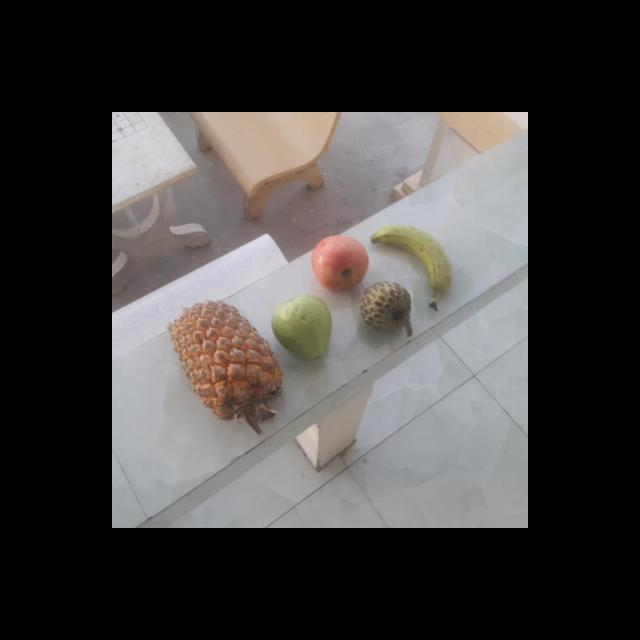Sakya fruit: (358, 280, 412, 336)
apple: (308, 234, 371, 293)
banana: (364, 224, 456, 304)
guava: (268, 296, 333, 361)
pineapple: (168, 302, 280, 418)
